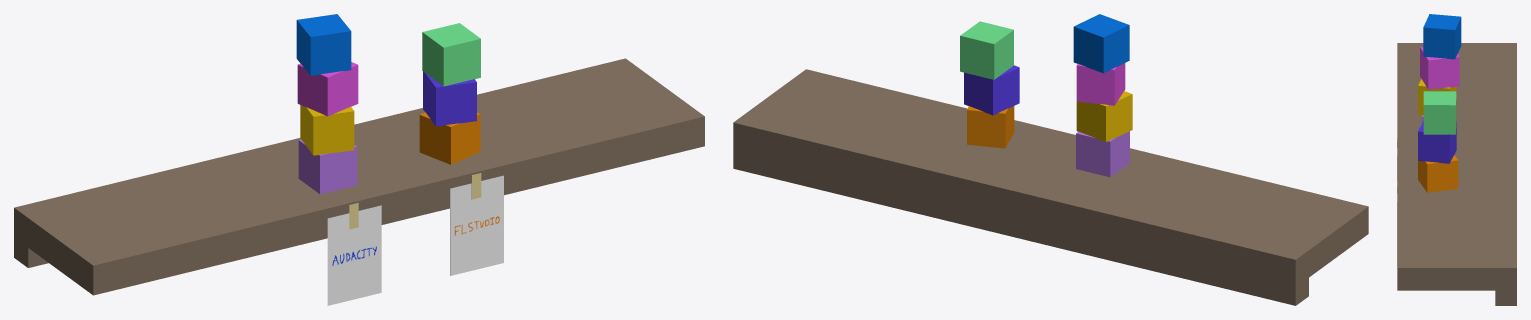
File: Audio Manipulation Shelf.gltf
The picture shows the model from 3 angles, left to right: view 1: azimuth 30°, elevation 25°; view 2: azimuth 150°, elevation 25°; view 3: azimuth 270°, elevation 25°; orthographic projection. The views are drawn at different scales.
Visible parts, largest first — view 1: Cube, Java Paper.001, Java Paper, Teal Cube, Blue Cube, Pink Cube, Taxi Orange Cube, Violet Cube, Yellow Cube, Purple Cube.001; view 2: Cube, Blue Cube, Teal Cube, Yellow Cube, Purple Cube.001, Violet Cube, Pink Cube, Taxi Orange Cube; view 3: Cube, Blue Cube, Teal Cube, Pink Cube, Taxi Orange Cube, Purple Cube.001, Yellow Cube.
Part boxes in pixels (x1,y1,x2,y2): Cube: (14, 58, 704, 295); Java Paper.001: (327, 205, 381, 305); Java Paper: (450, 175, 503, 275); Teal Cube: (422, 23, 480, 86); Blue Cube: (296, 14, 351, 75); Pink Cube: (297, 62, 358, 116); Taxi Orange Cube: (419, 112, 480, 164); Violet Cube: (298, 139, 357, 194); Yellow Cube: (300, 105, 354, 155); Purple Cube.001: (423, 71, 476, 126); Cube: (733, 69, 1368, 305); Blue Cube: (1073, 14, 1129, 73); Teal Cube: (960, 21, 1013, 79); Yellow Cube: (1076, 91, 1132, 142); Purple Cube.001: (964, 65, 1019, 115); Violet Cube: (1076, 131, 1129, 177); Pink Cube: (1076, 63, 1125, 105); Taxi Orange Cube: (967, 106, 1014, 148); Cube: (1397, 43, 1516, 305); Blue Cube: (1423, 14, 1461, 59); Teal Cube: (1423, 91, 1456, 134); Pink Cube: (1420, 47, 1459, 89); Taxi Orange Cube: (1418, 155, 1458, 192); Purple Cube.001: (1418, 121, 1456, 163); Yellow Cube: (1418, 79, 1456, 115).
Bounding box in the file's own units: 3 × 1.18 × 0.6745.
12 materials, 2 textured.
